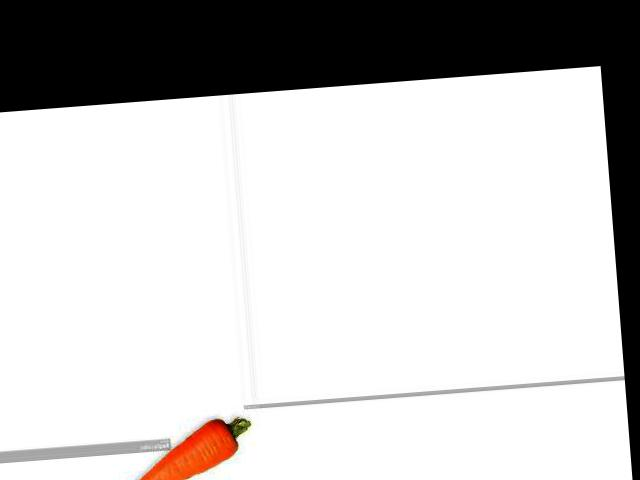carrot: (111, 416, 247, 480)
